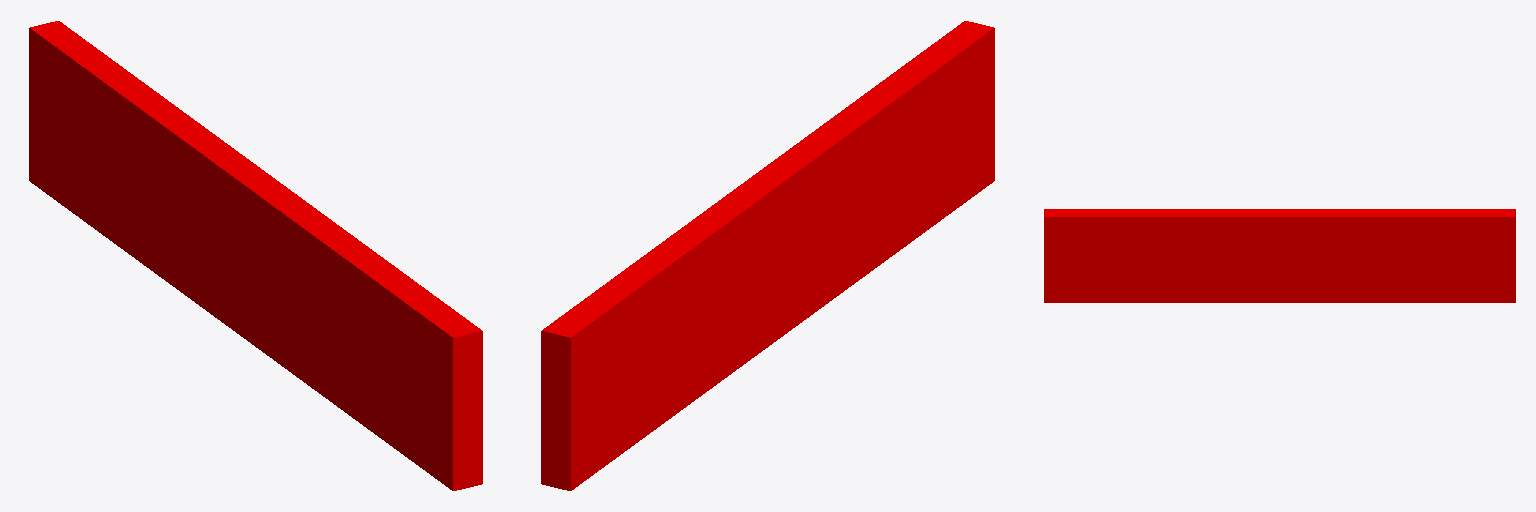
The robot description file, URDF, robot "side_boundaries":
<?xml version="1.0"?>
<!-- created with Phobos 1.0.1 "Capricious Choutengan" -->
  <robot name="side_boundaries">

    <link name="side_wall">
      <inertial>
        <contact>
          <lateral_friction value="1"/>
        </contact>
        <origin xyz="0 0 0" rpy="0 0 0"/>
        <mass value="0.001"/>
        <inertia ixx="0.001" ixy="0" ixz="0" iyy="0.001" iyz="0" izz="0.001"/>
      </inertial>
      <visual name="Cube">
        <origin xyz="0 0 0" rpy="0 0 0"/>
        <geometry>
          <box size="0.1 2.5 0.5"/>
        </geometry>
        <material name="red">
          <color rgba="1.0 0 0 1.0"/>
        </material>
      </visual>
      <collision>
        <origin rpy="0 0 0" xyz="0 0 0"/>
        <geometry>
          <box size="0.1 1.3 0.5"/>
        </geometry>
      </collision>
    </link>

    <material name="blue">
      <color rgba="0.68 0.74 0.04 1.0"/>
    </material>

  </robot>

--- Facts derived from the render (not from the file) ---
The picture shows the robot from 3 angles, left to right: view 1: azimuth 30°, elevation 25°; view 2: azimuth 150°, elevation 25°; view 3: azimuth 270°, elevation 25°; orthographic projection.
Model side_boundaries with 1 links and 0 joints (none), rooted at side_wall, posed every joint at zero.
Links seen in each view (by area): view 1: side_wall; view 2: side_wall; view 3: side_wall.
Boxes of the visible links, x1=… form: side_wall: x1=29, y1=21, x2=482, y2=490; side_wall: x1=541, y1=21, x2=994, y2=490; side_wall: x1=1044, y1=209, x2=1515, y2=302.
Bounding box of the posed robot: 0.1 × 2.5 × 0.5 m (x, y, z).
Geometry: primitives only (box / cylinder / sphere), no mesh files.